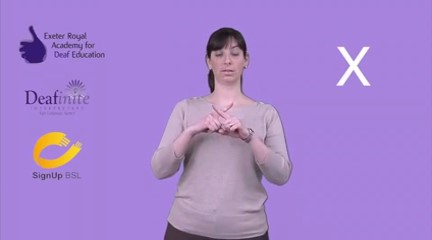X: (182, 96, 257, 146)
